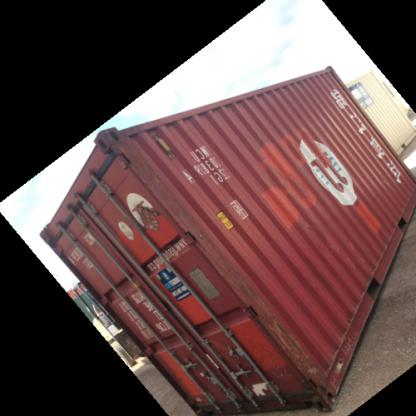Damage: (191, 220, 267, 307), (123, 136, 196, 226), (251, 306, 328, 385), (199, 334, 249, 374), (250, 371, 281, 411)
